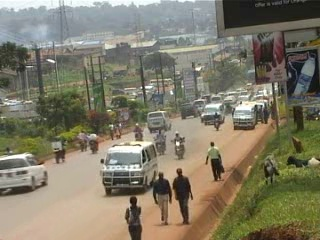Car: (0, 152, 50, 195), (179, 101, 199, 122), (217, 94, 236, 102), (199, 106, 207, 121)
Motorcycle: (50, 132, 68, 167), (169, 129, 186, 160), (151, 127, 166, 156), (76, 126, 90, 154), (131, 119, 147, 143), (87, 130, 101, 156), (211, 109, 223, 133)
